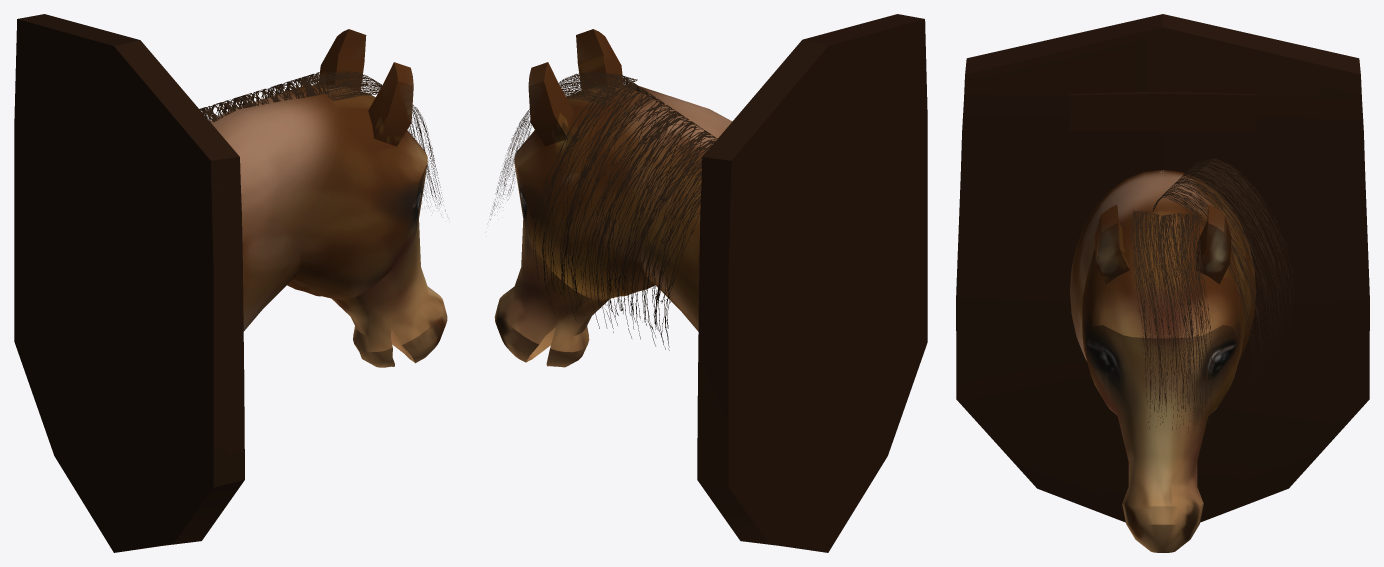
File: Horse.fbx
The picture shows the model from 3 angles, left to right: view 1: azimuth 30°, elevation 25°; view 2: azimuth 150°, elevation 25°; view 3: azimuth 270°, elevation 25°; orthographic projection.
Parts seen in each view (by area): view 1: Hevonen; view 2: Hevonen; view 3: Hevonen.
Part boxes in pixels (bbox=[...]): Hevonen: bbox=[14, 14, 447, 552]; Hevonen: bbox=[490, 14, 927, 552]; Hevonen: bbox=[956, 14, 1369, 552].
Bounding box in the file's own units: 153 × 225 × 164.
